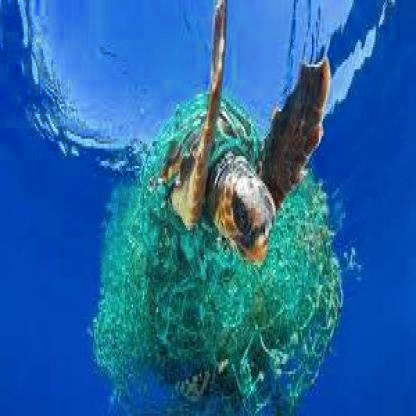net: (94, 102, 334, 401)
